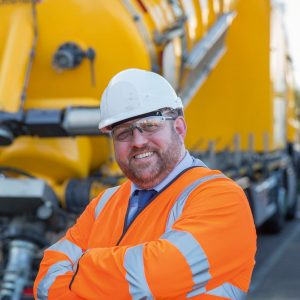Person_wearing_helmet: (94, 61, 189, 142)
